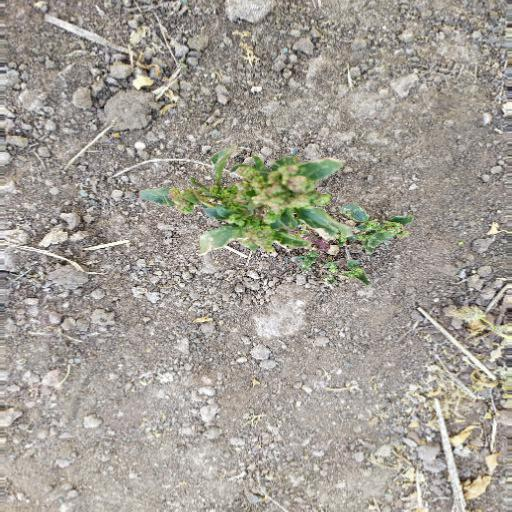weed: (147, 147, 414, 278)
